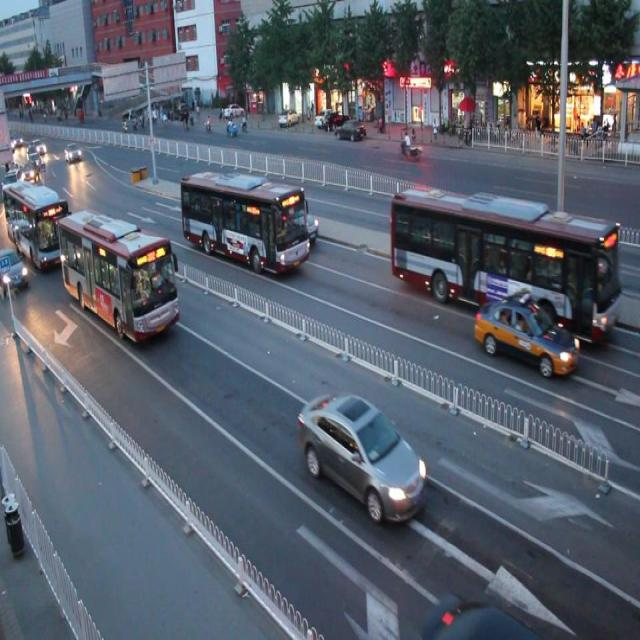car: (295, 387, 423, 527), (474, 294, 578, 378), (420, 588, 551, 640), (267, 203, 318, 246)
van: (389, 180, 622, 337), (56, 209, 178, 346), (180, 168, 308, 273)
